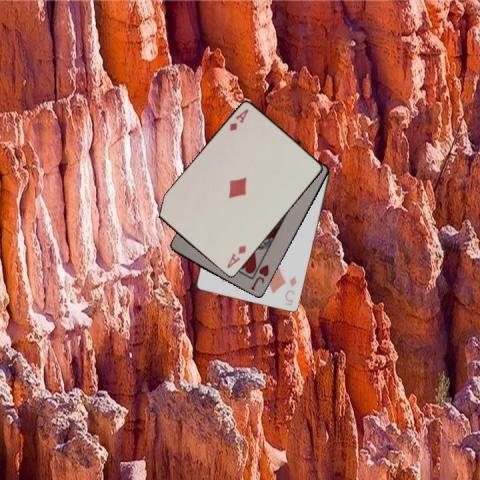5d: (282, 274, 298, 307)
Ad: (224, 243, 247, 270), (227, 106, 250, 133)
Jh: (247, 261, 270, 292)
